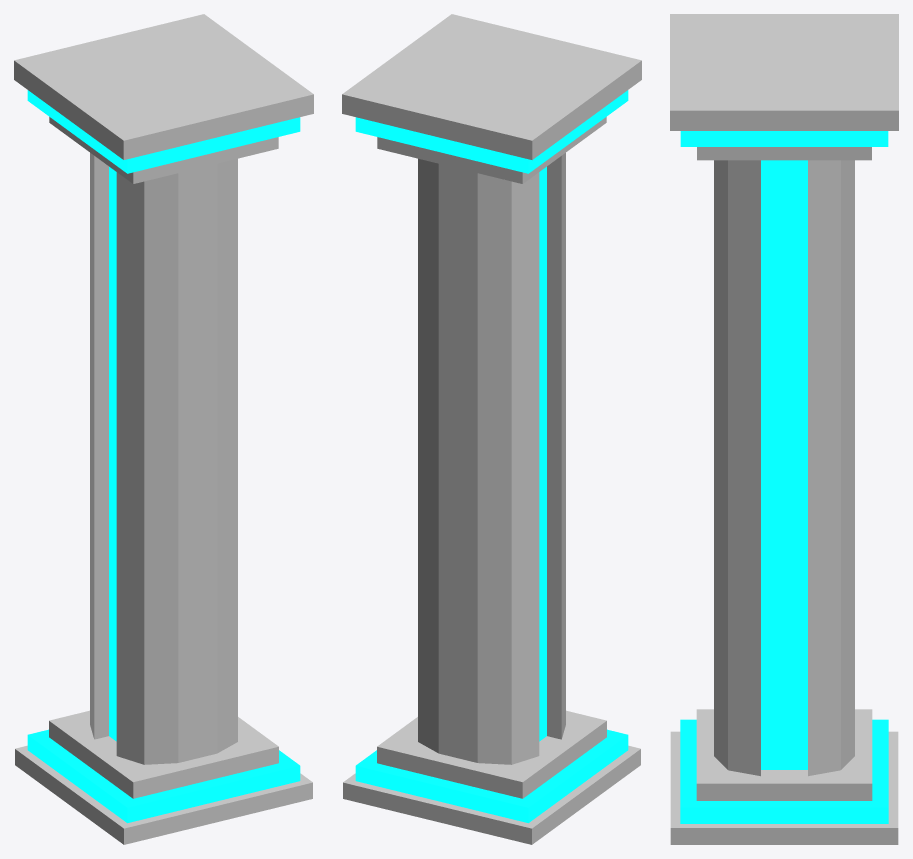
The model's file is Pillar.fbx.
3 renders of one model, left to right at view 1: azimuth 30°, elevation 25°; view 2: azimuth 150°, elevation 25°; view 3: azimuth 270°, elevation 25°, orthographic. The views are drawn at different scales.
Visible parts, largest first — view 1: Cube; view 2: Cube; view 3: Cube.
Part boxes in pixels (left/top/right/bottom): Cube: left=14, top=14, right=313, bottom=844; Cube: left=342, top=14, right=641, bottom=844; Cube: left=670, top=14, right=898, bottom=844.
Size of the model in its own units: 1023 by 3622 by 1023.
